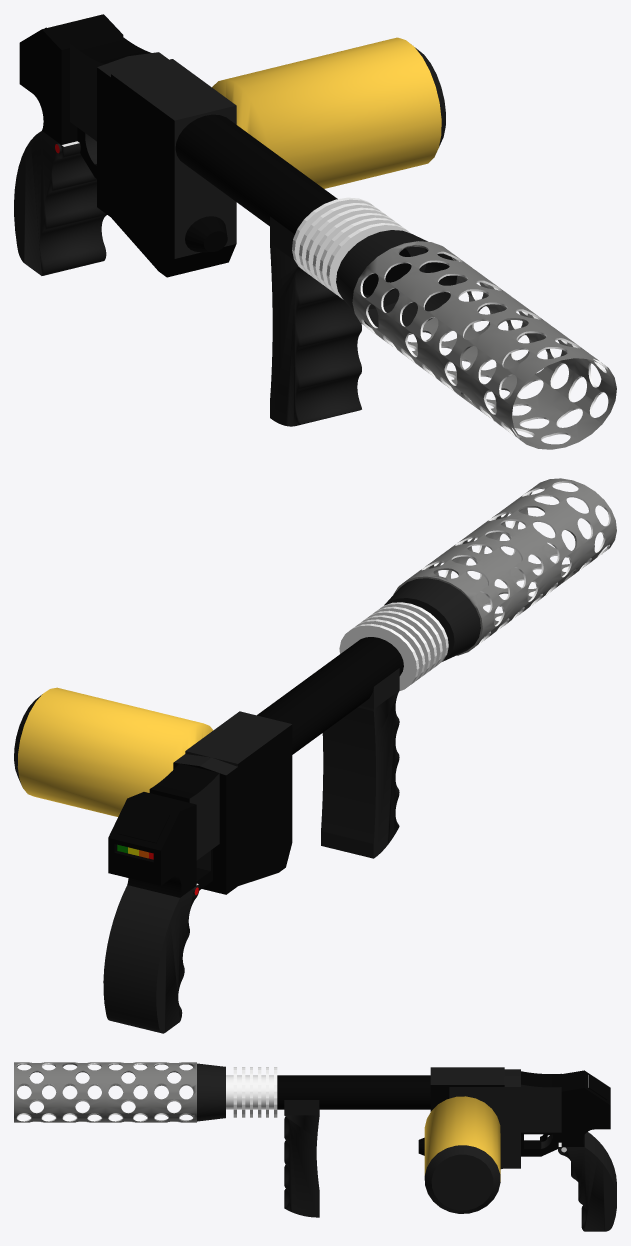
File: WeaponTest14.fbx
The picture shows the model from 3 angles, top to bottom: view 1: azimuth 30°, elevation 25°; view 2: azimuth 150°, elevation 25°; view 3: azimuth 270°, elevation 25°; orthographic projection. The views are drawn at different scales.
Visible parts, largest first — view 1: ske780C, Group_1, Group_3; view 2: ske780C, Group_1, Group_3; view 3: ske780C, Group_1, Group_3.
Part boxes in pixels (<box>): ske780C: <box>14,14,361,426</box>; Group_1: <box>175,114,616,449</box>; Group_3: <box>212,37,445,188</box>; ske780C: <box>103,668,399,1033</box>; Group_1: <box>257,478,616,754</box>; Group_3: <box>14,687,213,816</box>; ske780C: <box>284,1067,616,1231</box>; Group_1: <box>14,1062,430,1122</box>; Group_3: <box>424,1096,500,1213</box>.
Bounding box in the file's own units: 47.93 × 41.78 × 146.
